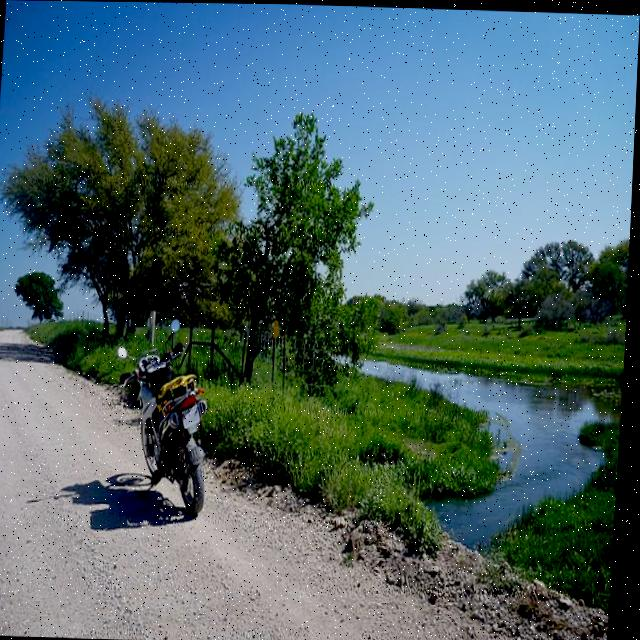motorcycle: (99, 317, 224, 518)
